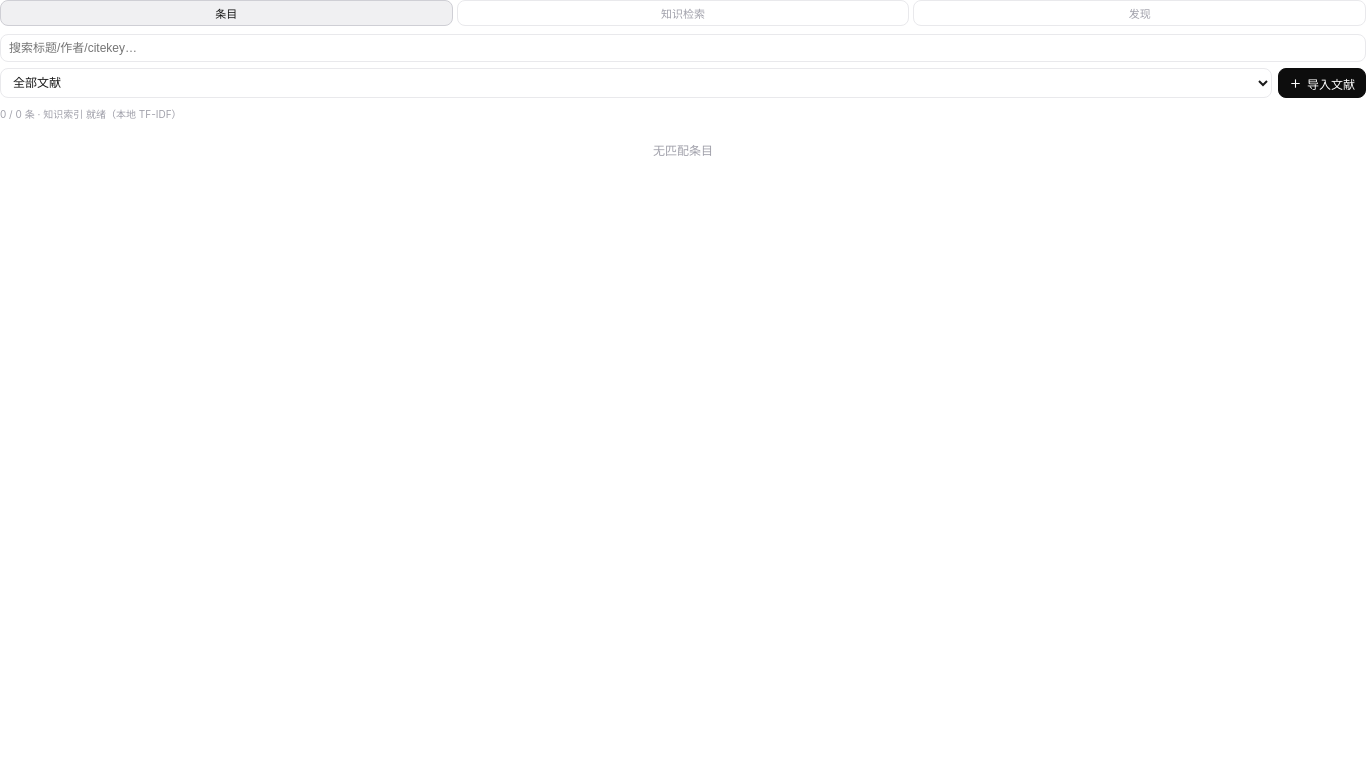
Scenario: LibraryPanel · Bib 清理向导 › error / warning 分区：重复条目进 error 区（keys + 合并建议），缺 author 进 warning 区
Click the button "导入文献". click: (1322, 83)
box: [1278,68,1365,98]
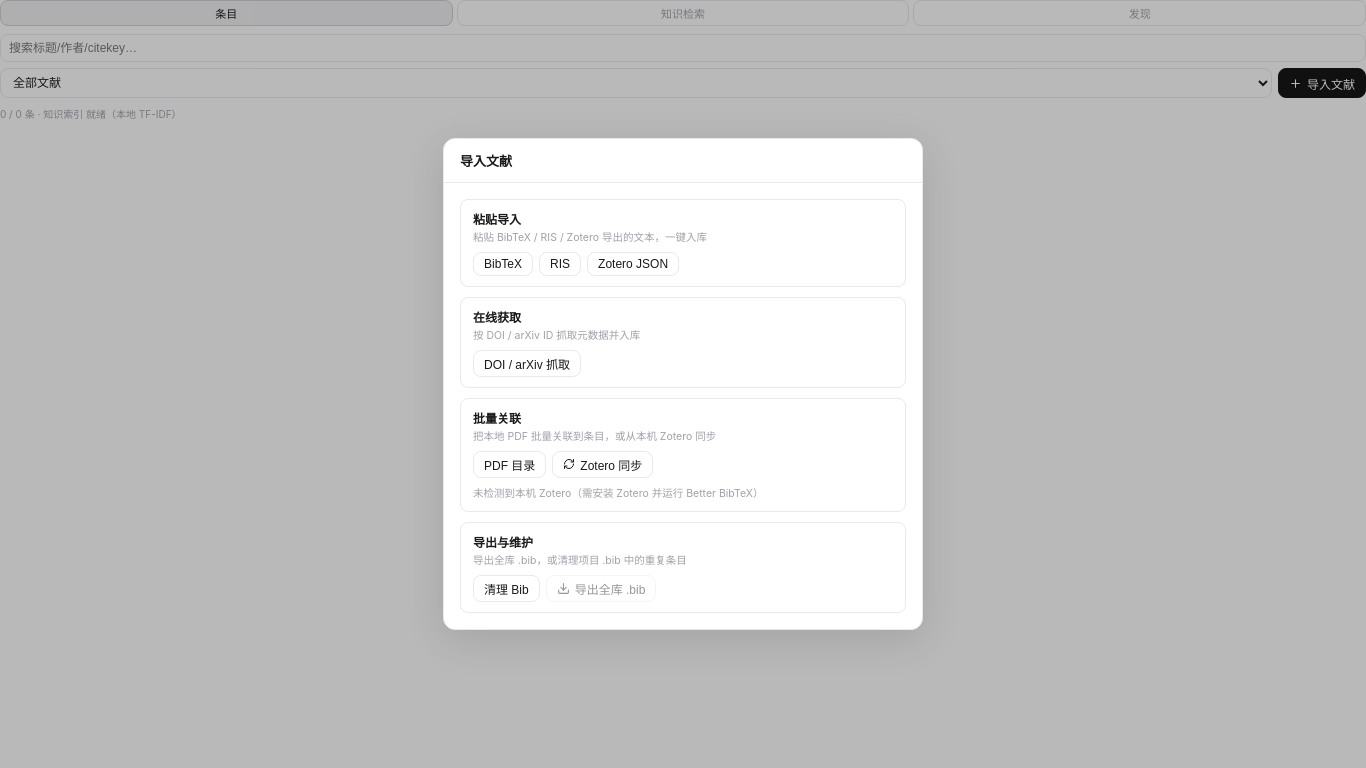
Click the button "清理 Bib". click: (506, 589)
box: [473,575,540,602]
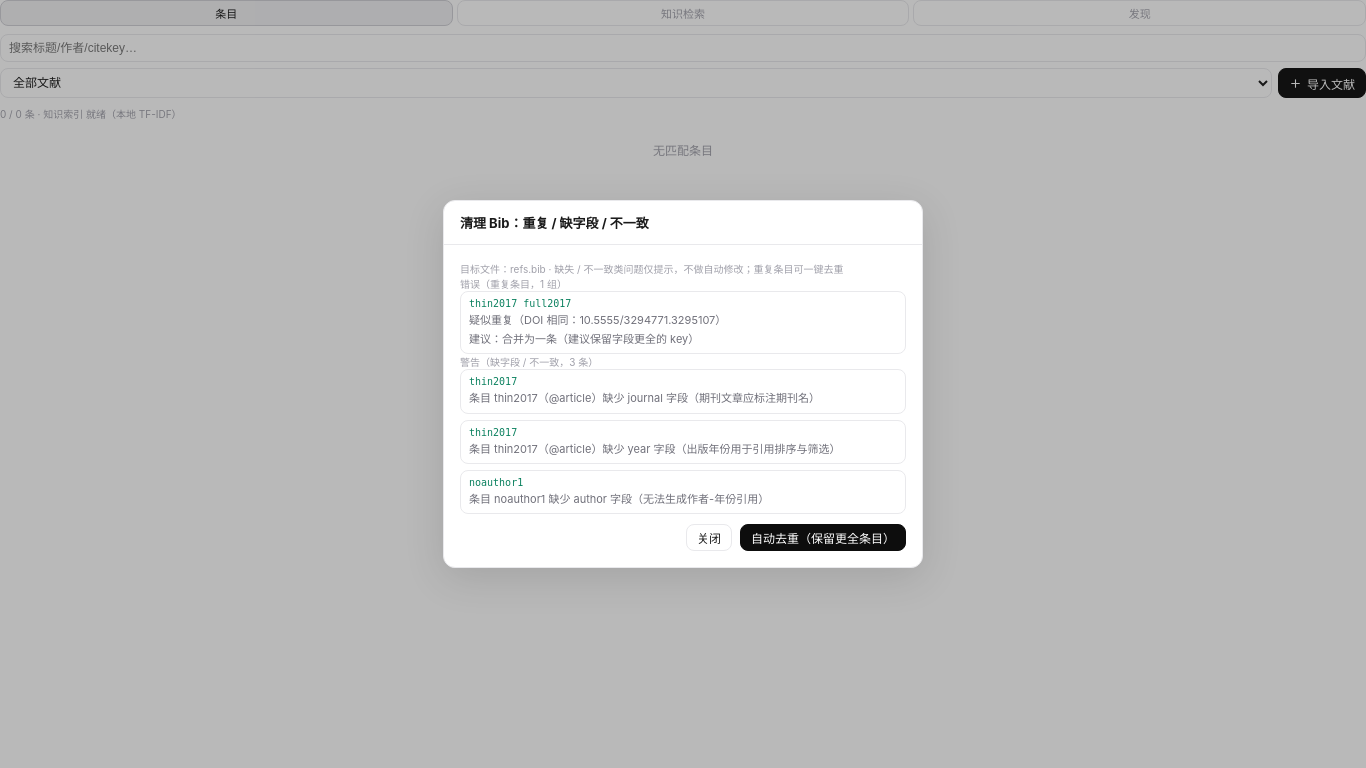
Check: the element with class "sf-lib-dialog" is shown, box [443,200,923,568]
Check: the element with class "sf-lib-dialog" shows "错误（重复条目，1 组）", box [460,278,567,290]
Check: the element with class "sf-lib-dialog" shows "警告（缺字段 / 不一致，3 条）", box [460,356,598,368]
